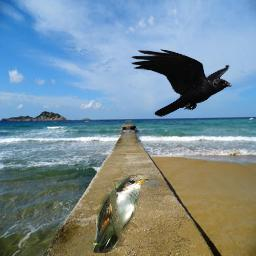Crow: (130, 48, 233, 117)
Cuckoo: (93, 175, 150, 253)
